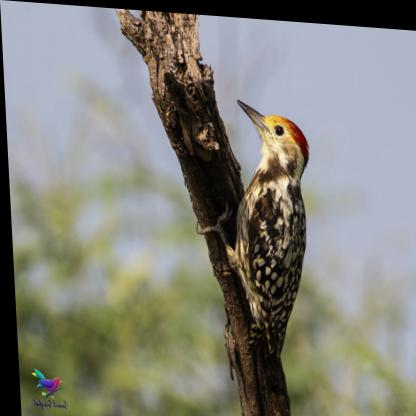Burung: (188, 93, 317, 355)
